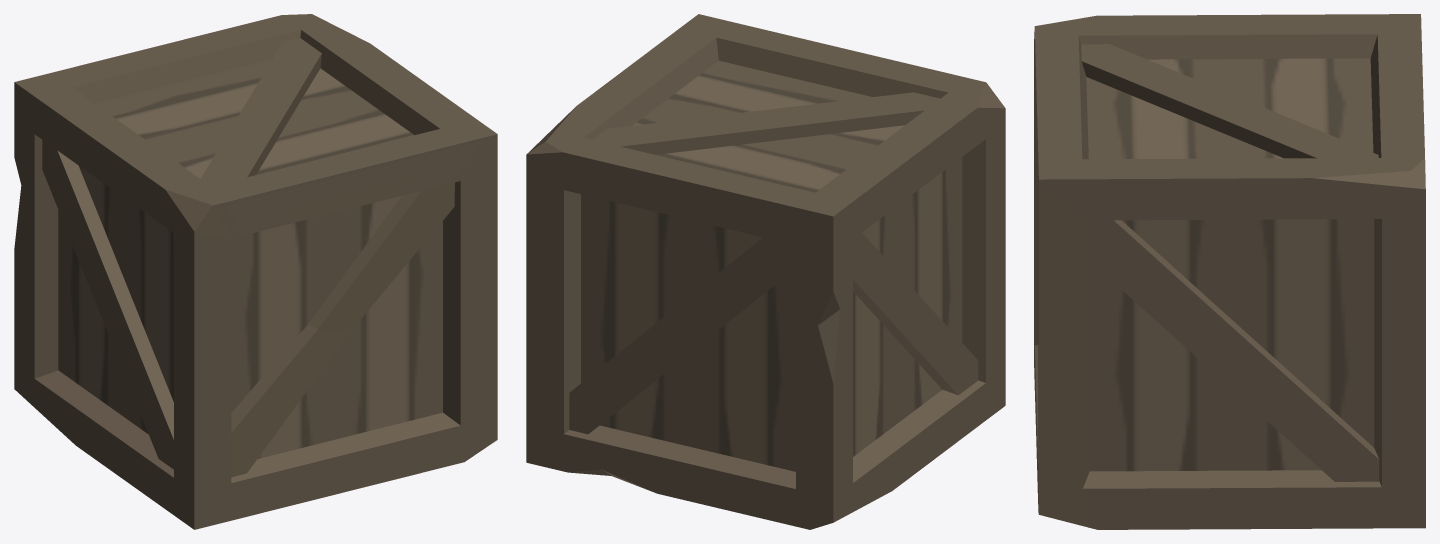
Rendered from SM_Prop_Crate_Cube_01.glb.
3 renders of one model, left to right at view 1: azimuth 30°, elevation 25°; view 2: azimuth 150°, elevation 25°; view 3: azimuth 270°, elevation 25°, orthographic. The views are drawn at different scales.
Visible parts, largest first — view 1: SM_Prop_Crate_Cube_01; view 2: SM_Prop_Crate_Cube_01; view 3: SM_Prop_Crate_Cube_01.
Boxes of the visible parts, x1,y1,x2,y2 form: SM_Prop_Crate_Cube_01: [14, 14, 497, 529]; SM_Prop_Crate_Cube_01: [526, 14, 1005, 529]; SM_Prop_Crate_Cube_01: [1034, 14, 1425, 529].
Size of the model in its own units: 0.8283 by 0.8183 by 0.8284.
Materials: 1 (1 with a texture image).
